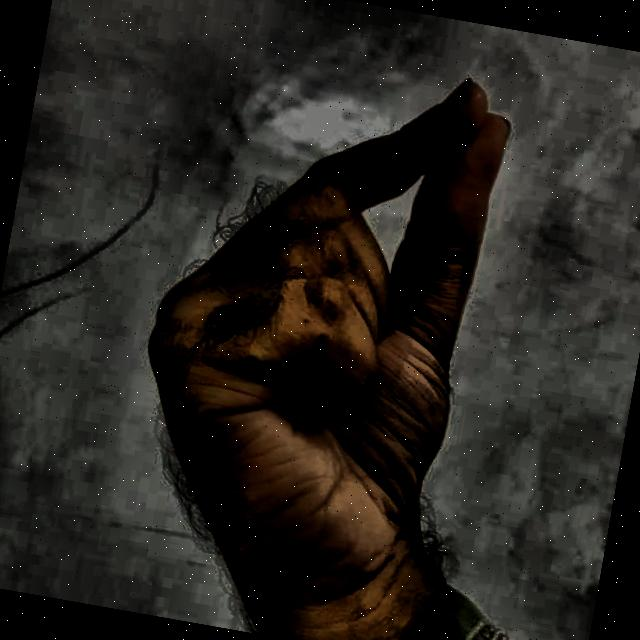Anusshar: (71, 0, 573, 639)
